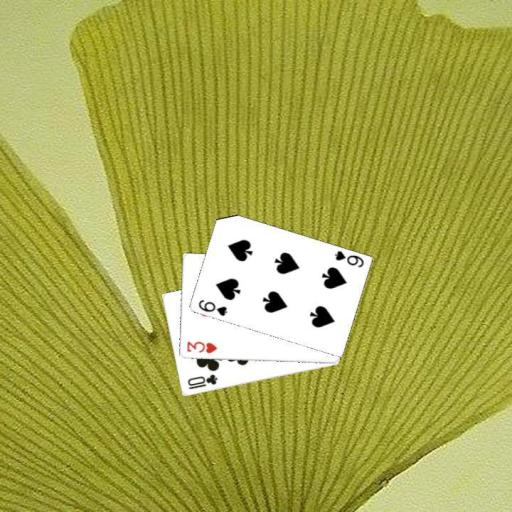10C: (184, 371, 219, 391)
3H: (184, 338, 219, 355)
6S: (331, 247, 365, 269), (195, 296, 228, 318)
